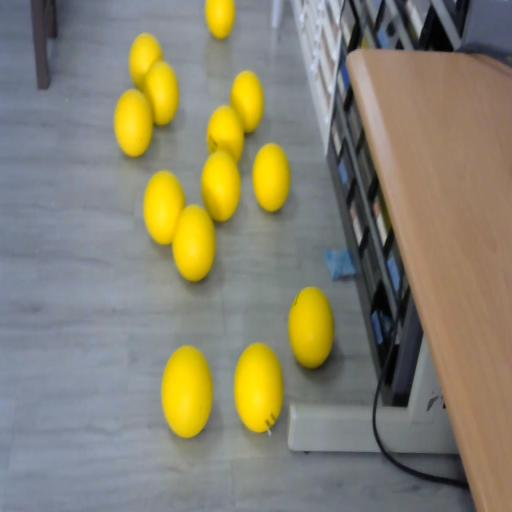FUEL: (160, 344, 214, 438), (234, 341, 284, 433), (287, 284, 335, 369), (171, 202, 217, 284), (142, 167, 186, 245), (113, 88, 154, 157), (201, 150, 241, 220), (252, 142, 290, 212), (143, 59, 180, 127), (230, 70, 264, 132), (205, 0, 235, 39)
